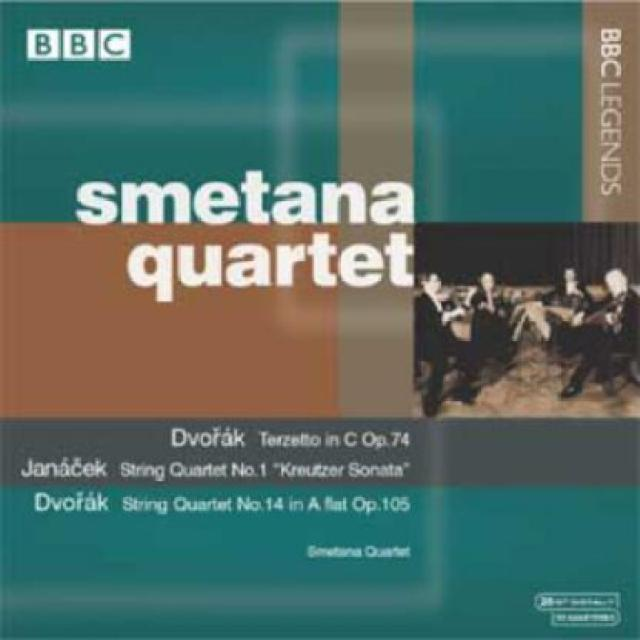Person: (412, 263, 639, 422)
